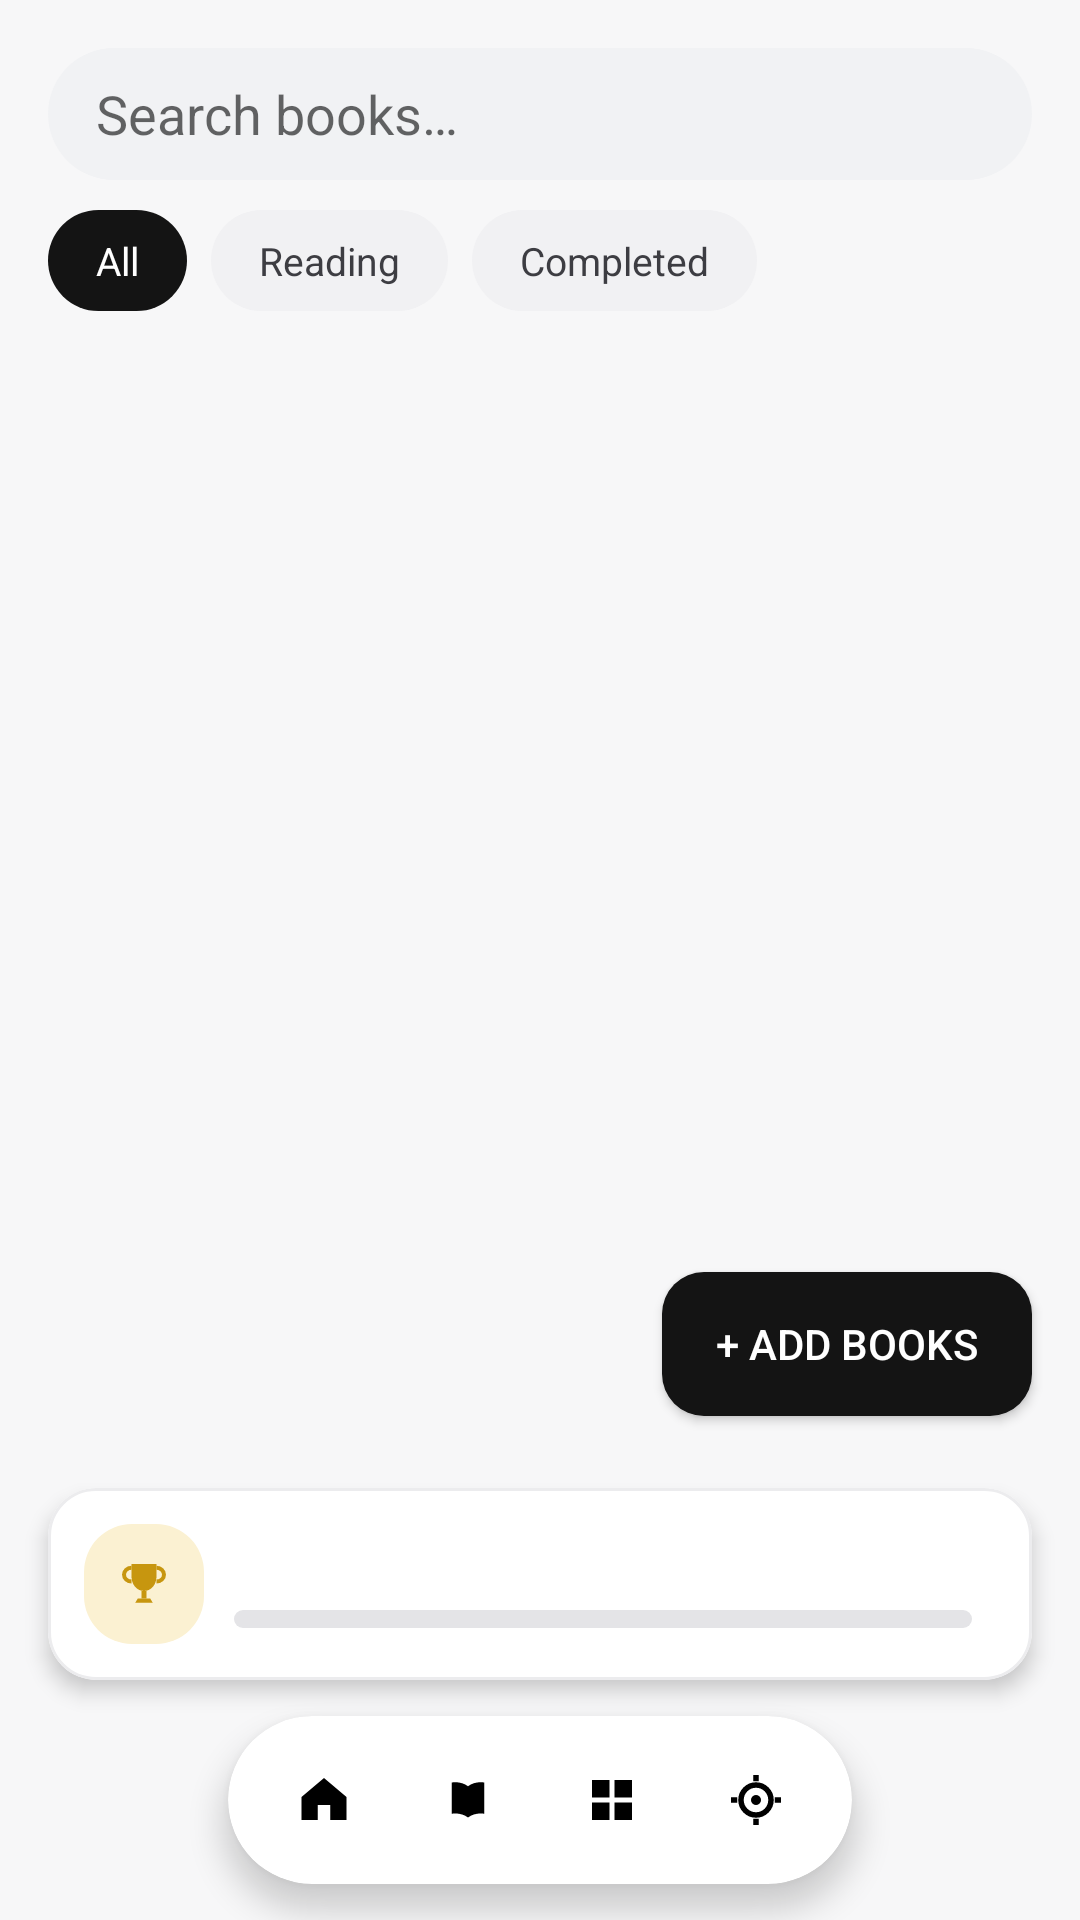

Screen size 1080px x 1920px. Icon name, then its center in pixels as (x,y):
book: (468,1800)
grid: (612,1800)
home: (324,1799)
trophy: (144,1583)
